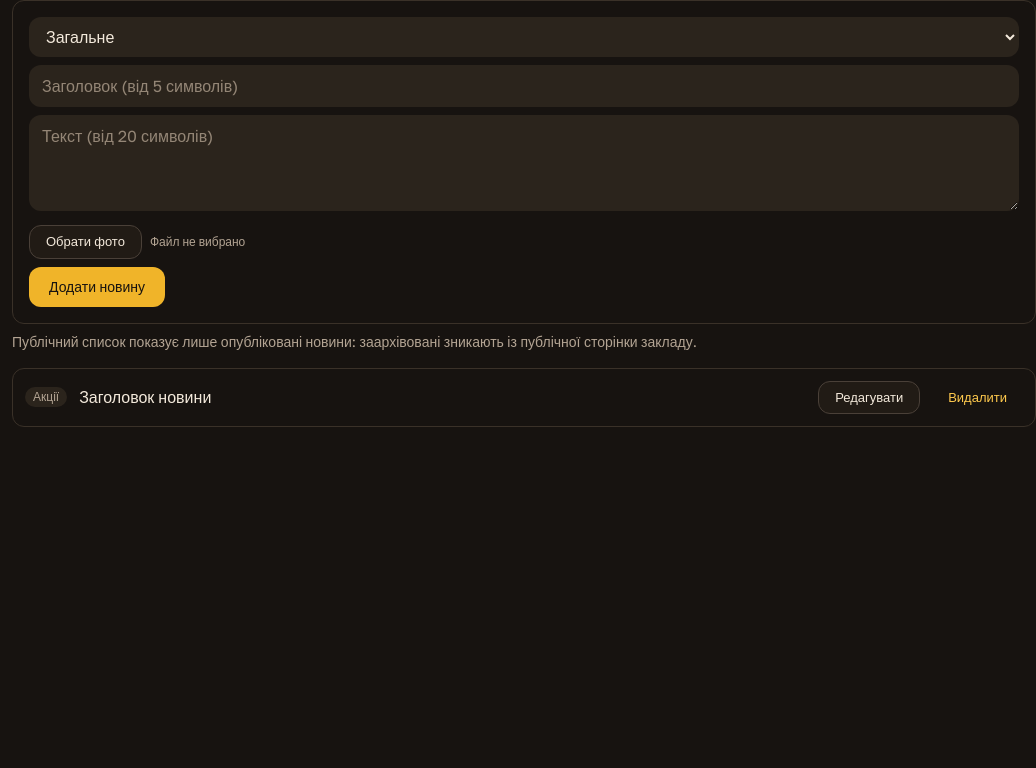
Scenario: VenueNewsManager › створення → POST /me/venues/v1/news без venueId → toast + refresh
Select "Акції" in the dropdown named "Категорія" at (524, 37), box [29,17,1019,57]
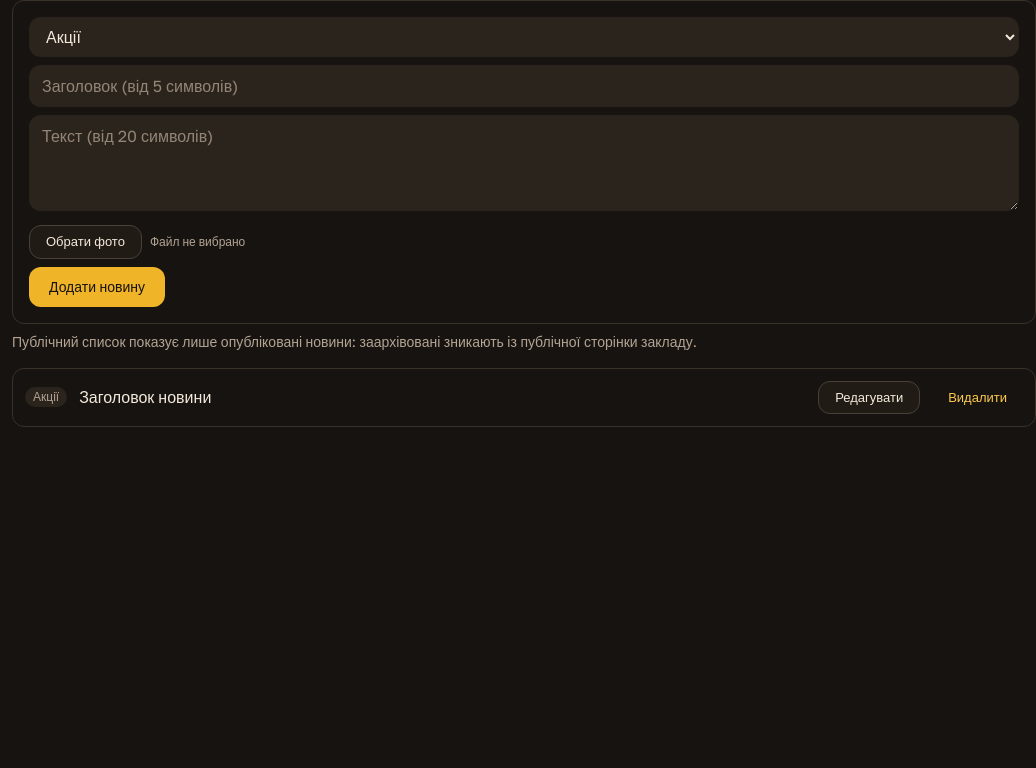
Type "Нова акція закладу" into the field named "Заголовок новини" at (524, 86), box [29,65,1019,107]
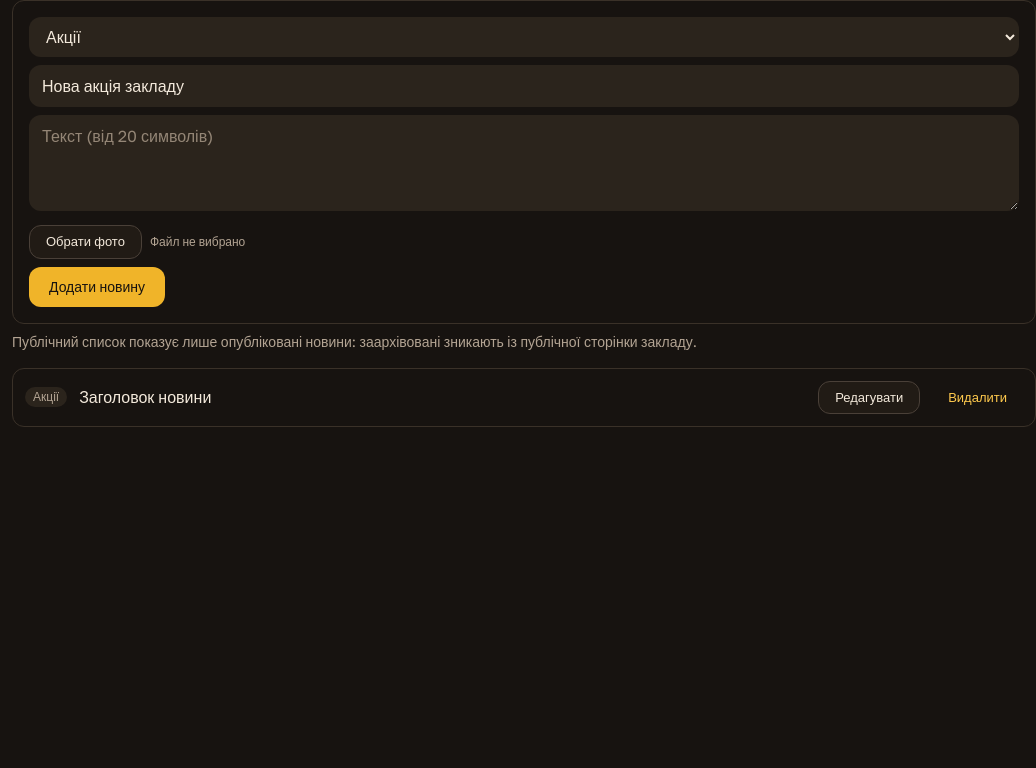
Type "Текст акції довший за двадцять символів" into the text box named "Текст новини" at (524, 163), box [29,115,1019,211]
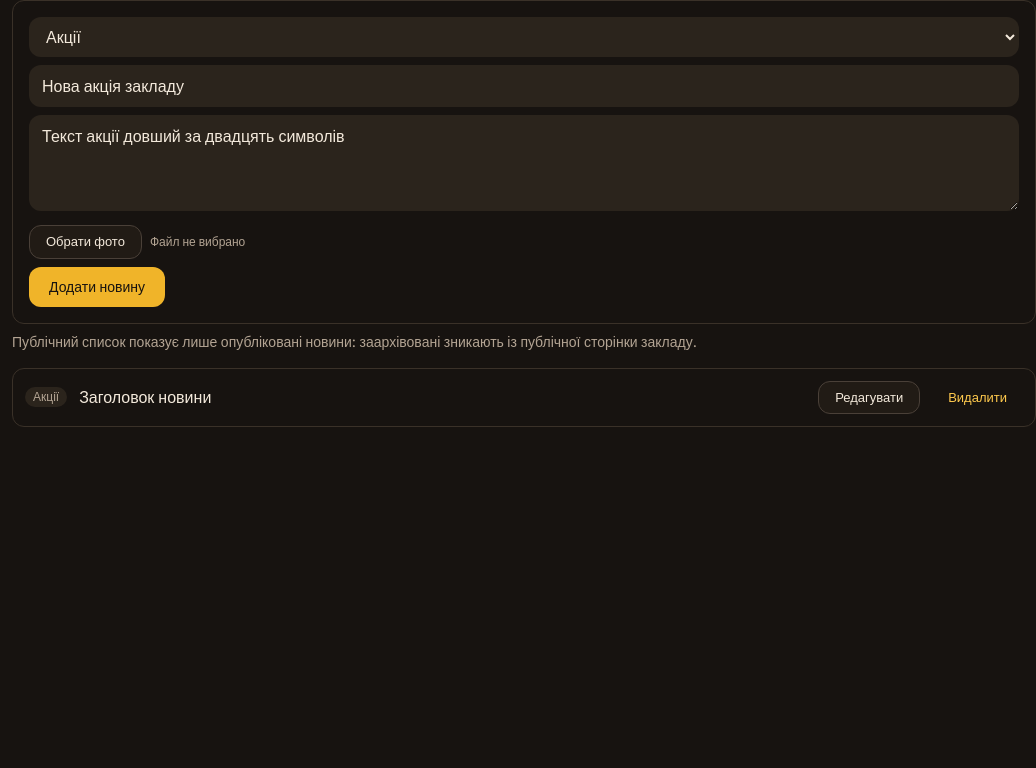
Click the button "Додати новину" at (97, 286), box [29,266,165,306]
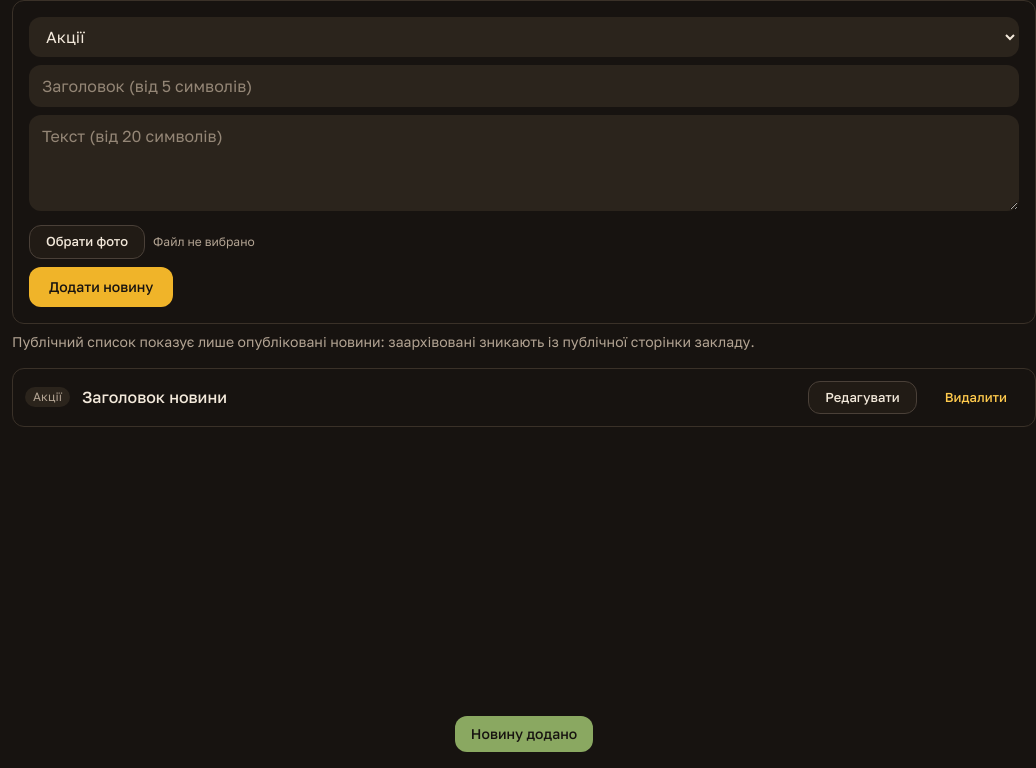
Result: the message shows "додано" at [471,725,577,742]
